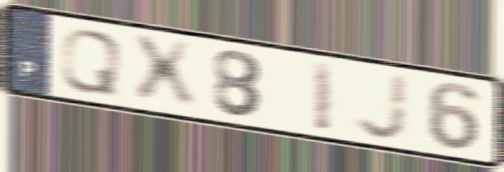6: (424, 81, 483, 153)
8: (211, 49, 263, 120)
I: (310, 57, 338, 135)
J: (352, 70, 411, 143)
Q: (57, 27, 126, 99)
X: (127, 32, 202, 113)
